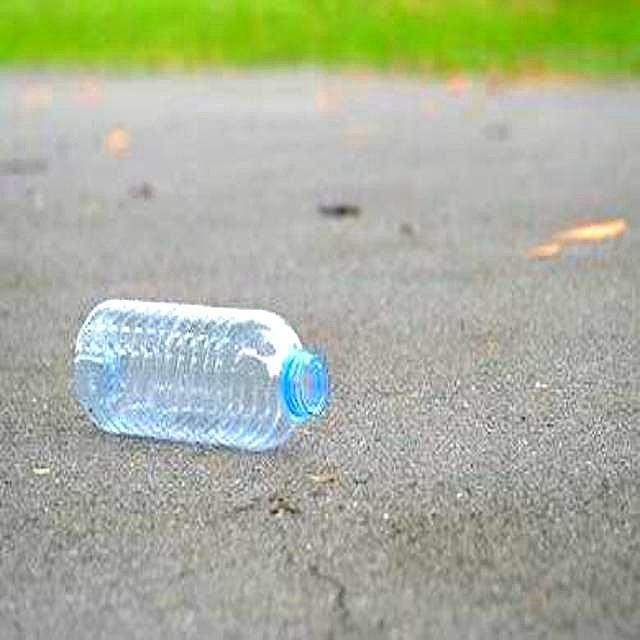Non-biodegradable: (69, 296, 333, 456)
